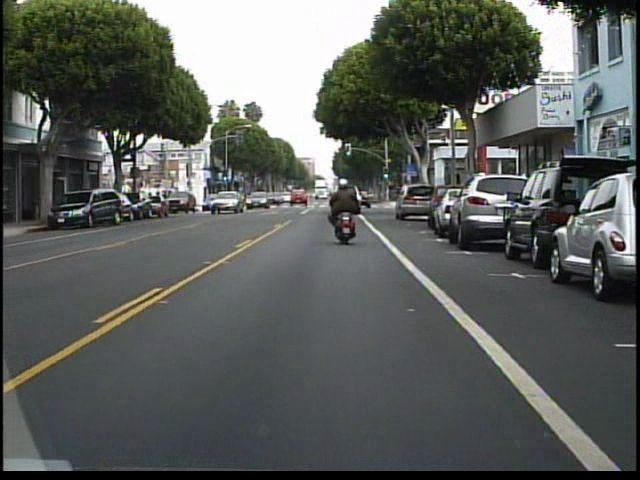person: (326, 174, 364, 244)
